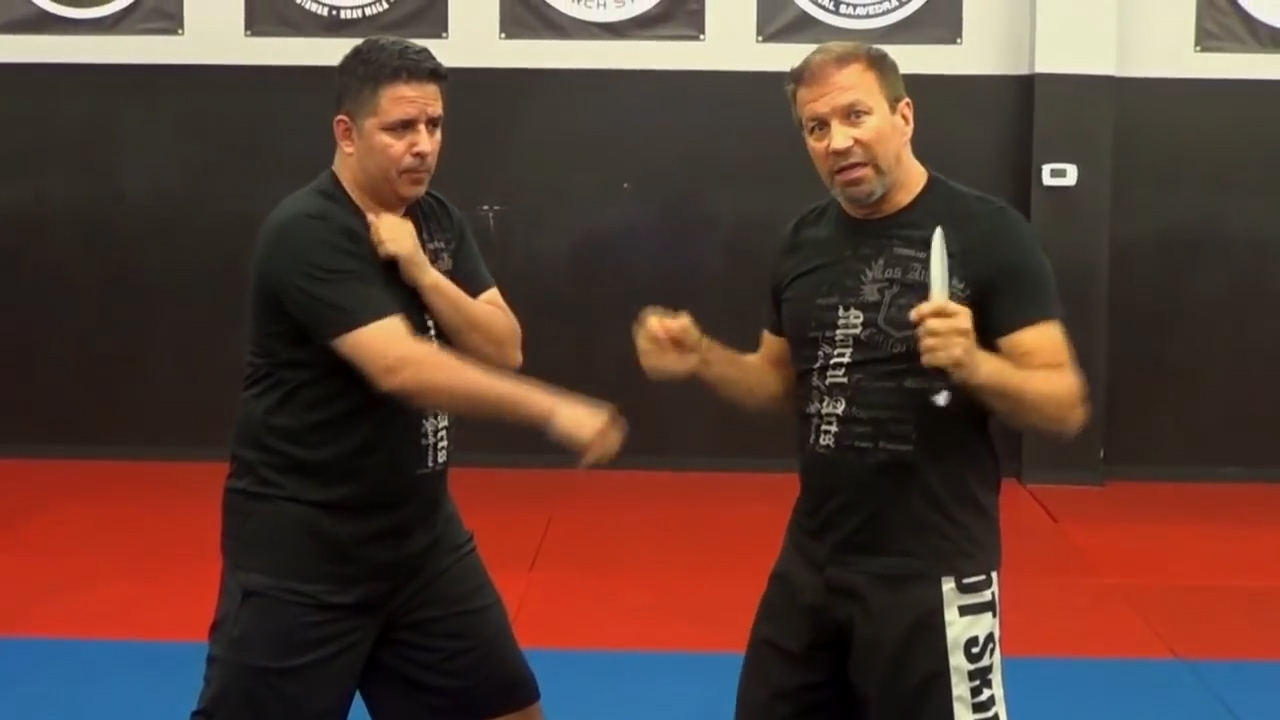knife: (912, 214, 979, 413)
